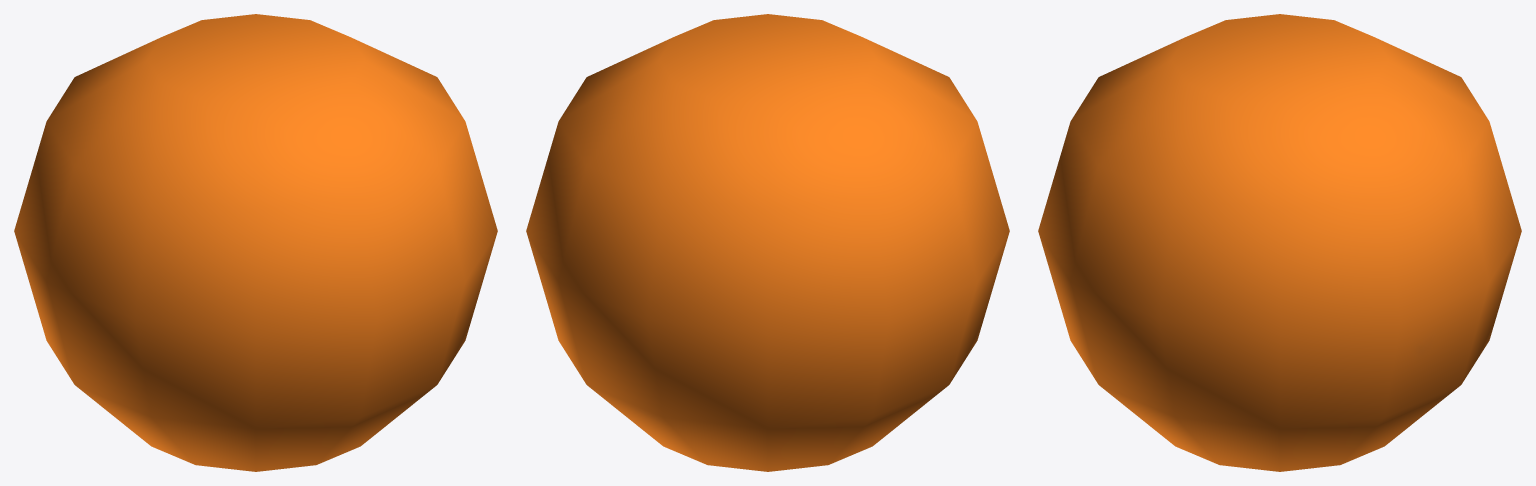
The model's file is fruta_laranja.glb.
3 views of the same model, side by side, from view 1: azimuth 30°, elevation 25°; view 2: azimuth 150°, elevation 25°; view 3: azimuth 270°, elevation 25° (orthographic).
Parts seen in each view (by area): view 1: ORANGE_18; view 2: ORANGE_18; view 3: ORANGE_18.
Part boxes in pixels (box(x1,y1,x2,y2)): ORANGE_18: box(14, 14, 497, 471); ORANGE_18: box(526, 14, 1009, 471); ORANGE_18: box(1038, 14, 1521, 471).
Bounding box in the file's own units: 0.4461 × 0.3972 × 0.4461.
Materials: 1 (1 with a texture image).
